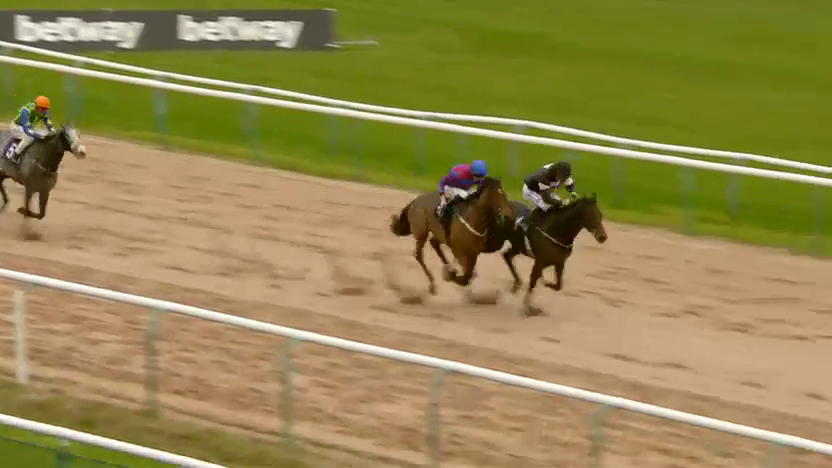jockey: (522, 161, 576, 239), (438, 160, 489, 231), (13, 89, 56, 163)
